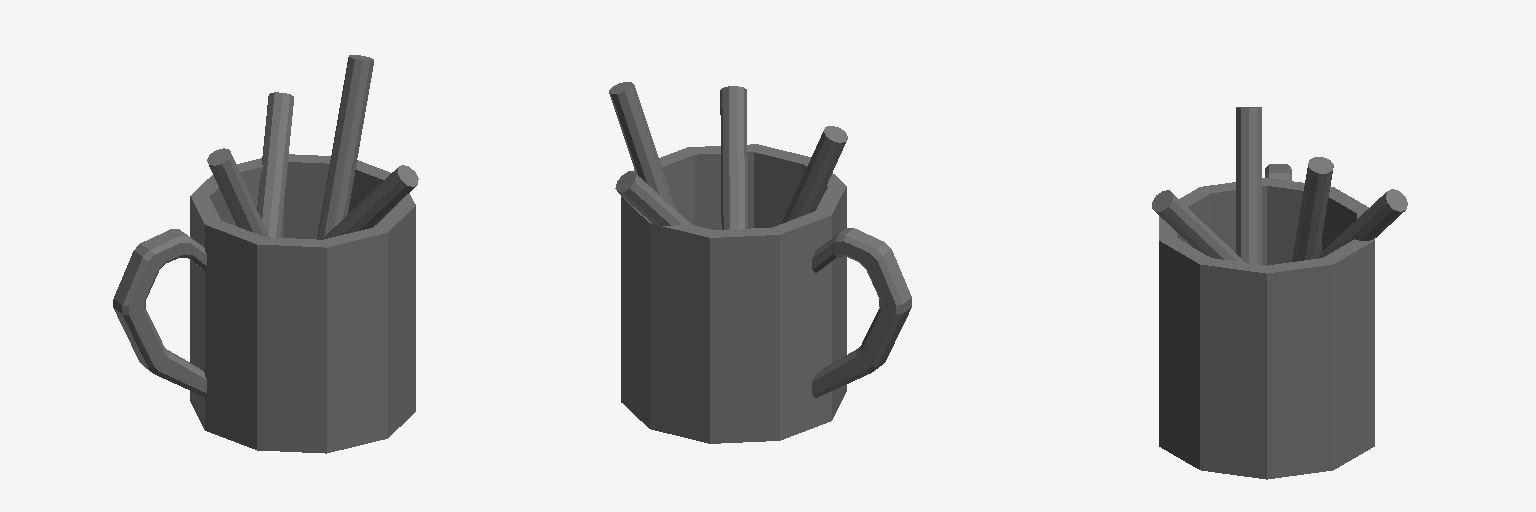
File: pencup.obj
3 renders of one model, left to right at view 1: azimuth 30°, elevation 25°; view 2: azimuth 150°, elevation 25°; view 3: azimuth 270°, elevation 25°, orthographic.
Visible parts, largest first — view 1: Pencup; view 2: Pencup; view 3: Pencup.
Part boxes in pixels (x1,y1,x2,y2): Pencup: (113,55,418,453); Pencup: (609,82,911,443); Pencup: (1152,107,1407,479).
Size of the model in its own units: 20.39 by 21.84 by 16.28.